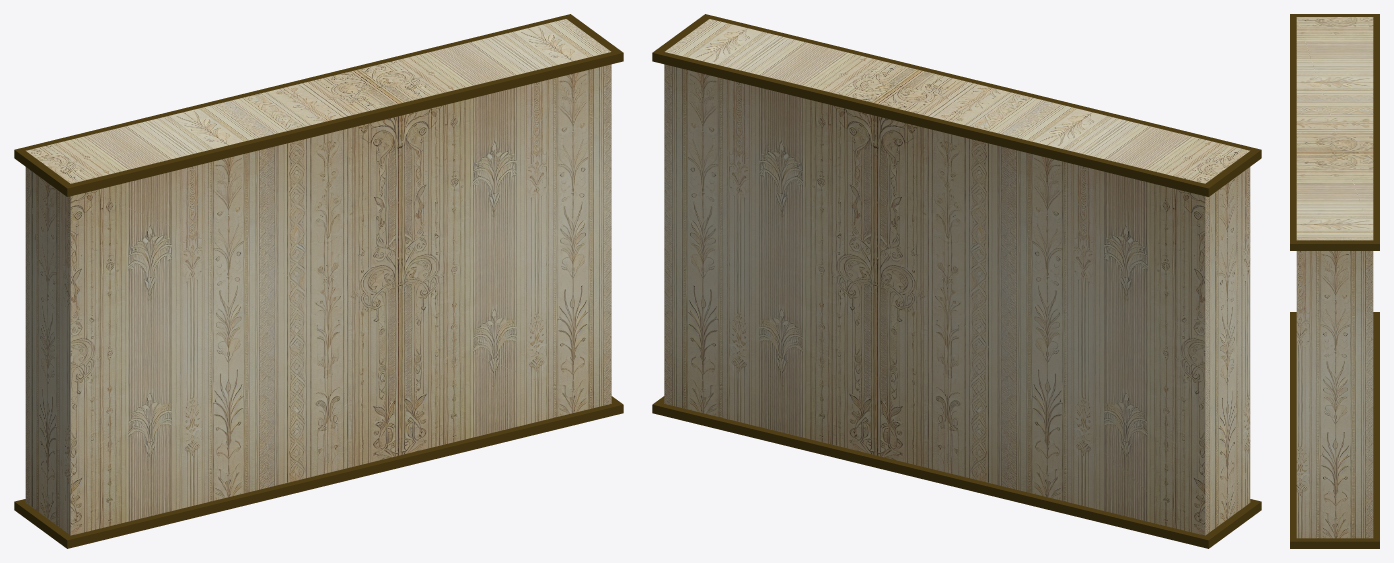
Rendered from Wall_1.fbx.
3 renders of one model, left to right at view 1: azimuth 30°, elevation 25°; view 2: azimuth 150°, elevation 25°; view 3: azimuth 270°, elevation 25°, orthographic. The views are drawn at different scales.
Parts seen in each view (by area): view 1: Cube.057, Cube.059, Cube.058; view 2: Cube.057, Cube.059, Cube.058; view 3: Cube.057, Cube.059, Cube.058.
Boxes of the visible parts, x1,y1,x2,y2 form: Cube.057: [25, 19, 611, 535]; Cube.059: [14, 14, 623, 196]; Cube.058: [14, 396, 623, 548]; Cube.057: [664, 19, 1250, 535]; Cube.059: [652, 14, 1261, 196]; Cube.058: [652, 396, 1261, 548]; Cube.057: [1296, 17, 1373, 538]; Cube.059: [1290, 14, 1379, 250]; Cube.058: [1290, 312, 1379, 548].
Bounding box in the file's own units: 1421 × 880 × 234.
